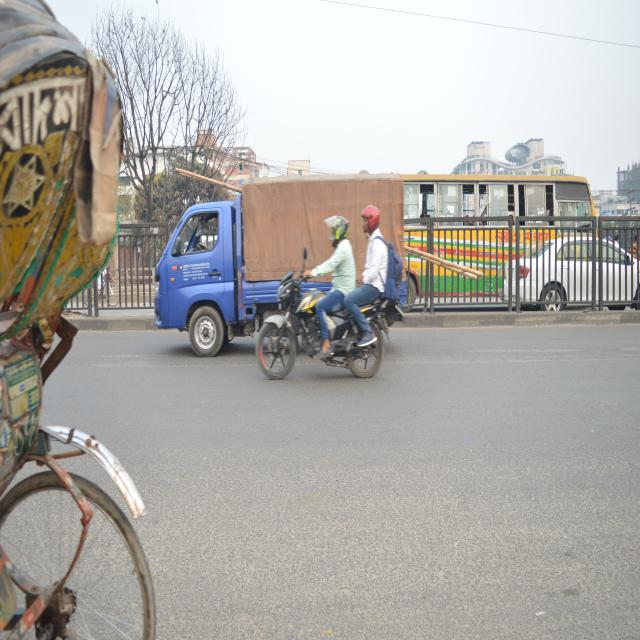bus: (399, 144, 604, 306)
car: (499, 228, 640, 324)
motorbike: (236, 265, 423, 417)
pickup-van: (156, 148, 407, 362)
